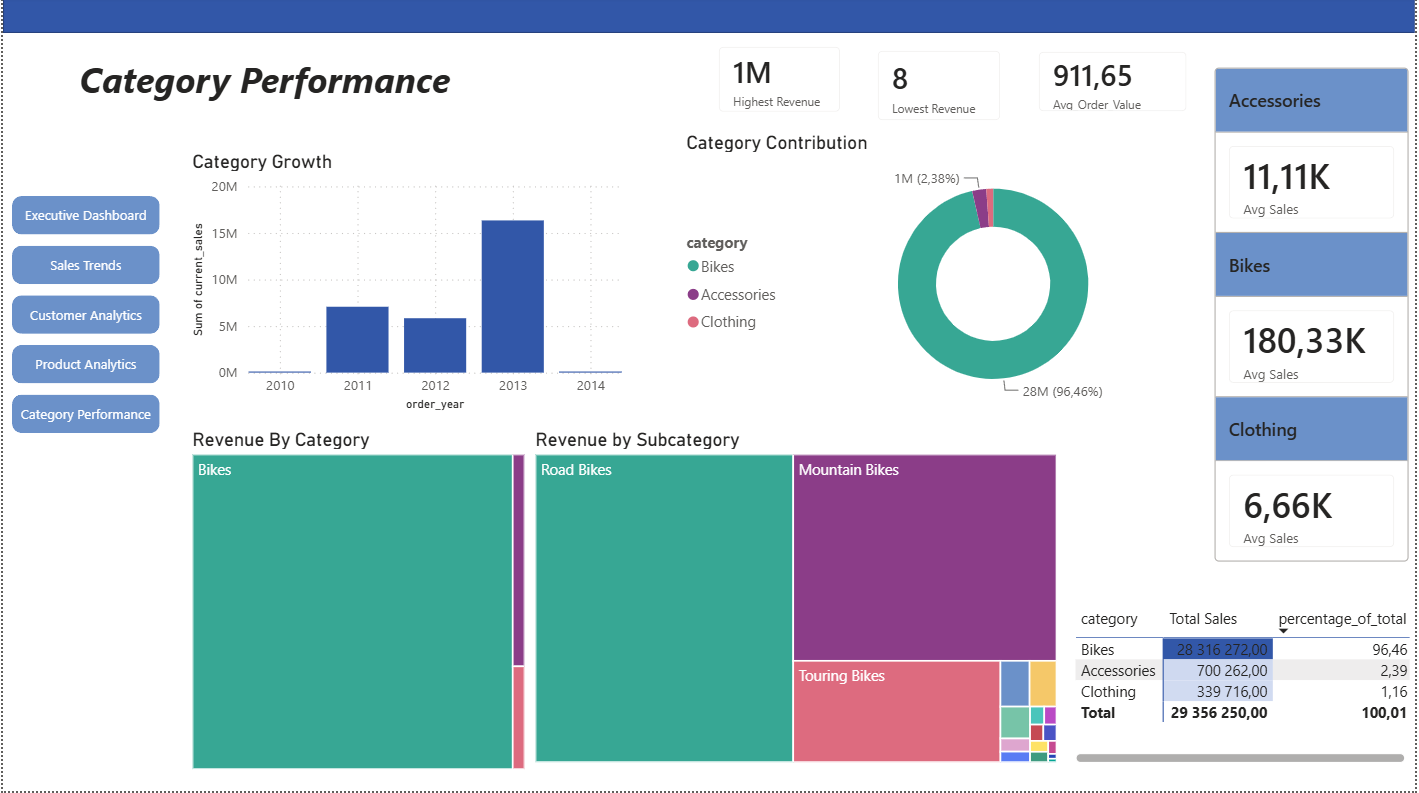

The dashboard page shown, as its layout file describes it:
{"tool":"powerbi","page":{"name":"Category Performance","canvas":[1280,720],"ordinal":4},"visuals":[{"type":"cardVisual","fields":{"Data":["Avg(gold report_customers.avg_order_value)"]},"box":[922.2,32.6,168.7,88.9],"z":0},{"type":"donutChart","title":"Category Contribution","fields":{"Y":["Sum(gold report_products.total_sales)"],"Category":["gold part_to_whole.category"]},"box":[614.8,121.5,476.1,258.4],"z":1000},{"type":"textbox","box":[64.4,47.2,400.8,66.2],"z":2000},{"type":"clusteredColumnChart","title":"Category Growth","fields":{"Category":["gold performance_analysis.order_year"],"Y":["Sum(gold performance_analysis.current_sales)"]},"box":[166.9,138.7,399,241.2],"z":3000},{"type":"treemap","title":"Revenue  By Category","fields":{"Values":["Sum(gold part_to_whole.total_sales)"],"Group":["gold part_to_whole.category"]},"box":[166.9,390.8,311,314.7],"z":4000},{"type":"treemap","title":"Revenue by Subcategory","fields":{"Group":["gold report_products.subcategory"],"Values":["Sum(gold report_products.total_sales)"]},"box":[477.9,390.8,482.4,308.3],"z":5000},{"type":"pivotTable","fields":{"Rows":["gold part_to_whole.category"],"Values":["Sum(gold part_to_whole.total_sales)","Sum(gold part_to_whole.percentage_of_total)"]},"box":[967.6,548.6,312.8,150.5],"z":6000},{"type":"cardVisual","fields":{"Data":["Avg(gold performance_analysis.avg_sales)"],"Rows":["gold part_to_whole.category"]},"box":[1093.6,39,186.8,499.6],"z":7000},{"type":"cardVisual","fields":{"Data":["Max(gold performance_analysis.current_sales)"]},"box":[640,32.6,144.2,87.4],"z":8000},{"type":"cardVisual","fields":{"Data":["Min(gold performance_analysis.current_sales)"]},"box":[776.2,31.7,146,97],"z":9000},{"type":"shape","box":[0,0,1280.4,32.6],"z":10000},{"type":"pageNavigator","box":[8.2,180.5,134.2,217.6],"z":11000}]}

Visuals, with their boxes in screenshot pixels (x1, y1, x2, y2), scaled from the page's 1280x720 canvas onto the 1419x793 screenshot:
cardVisual - Avg(gold report_customers.avg_order_value): l=1022, t=36, r=1209, b=134
"Category Contribution" donutChart: l=682, t=134, r=1209, b=418
textbox: l=71, t=52, r=516, b=125
"Category Growth" clusteredColumnChart: l=185, t=153, r=627, b=418
"Revenue  By Category" treemap: l=185, t=430, r=530, b=777
"Revenue by Subcategory" treemap: l=530, t=430, r=1065, b=770
pivotTable - gold part_to_whole.category x Sum(gold part_to_whole.total_sales): l=1073, t=604, r=1418, b=770
cardVisual - Avg(gold performance_analysis.avg_sales) x gold part_to_whole.category: l=1212, t=43, r=1418, b=593
cardVisual - Max(gold performance_analysis.current_sales): l=710, t=36, r=869, b=132
cardVisual - Min(gold performance_analysis.current_sales): l=860, t=35, r=1022, b=142
shape: l=0, t=0, r=1418, b=36
pageNavigator: l=9, t=199, r=158, b=438
